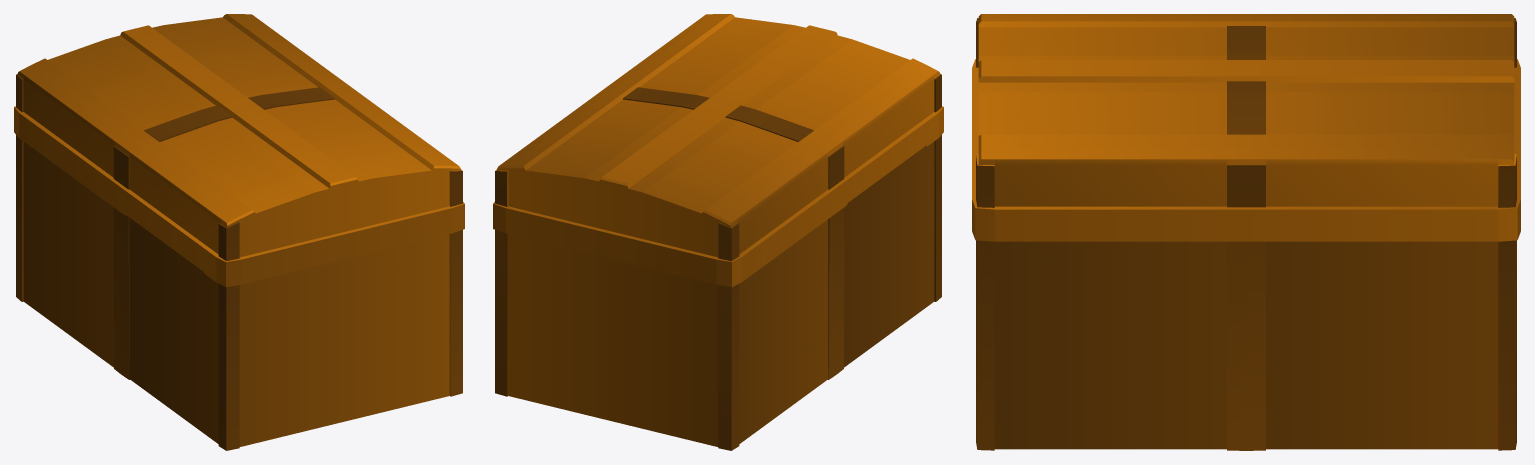
The model's file is Chest.fbx.
The picture shows the model from 3 angles, left to right: view 1: azimuth 30°, elevation 25°; view 2: azimuth 150°, elevation 25°; view 3: azimuth 270°, elevation 25°; orthographic projection. The views are drawn at different scales.
Visible parts, largest first — view 1: pCube1_lambert1_0; view 2: pCube1_lambert1_0; view 3: pCube1_lambert1_0.
Boxes of the visible parts, bbox=[...] form: pCube1_lambert1_0: bbox=[14, 14, 464, 450]; pCube1_lambert1_0: bbox=[493, 14, 943, 450]; pCube1_lambert1_0: bbox=[972, 14, 1520, 450].
Bounding box in the file's own units: 107 × 101 × 163.
